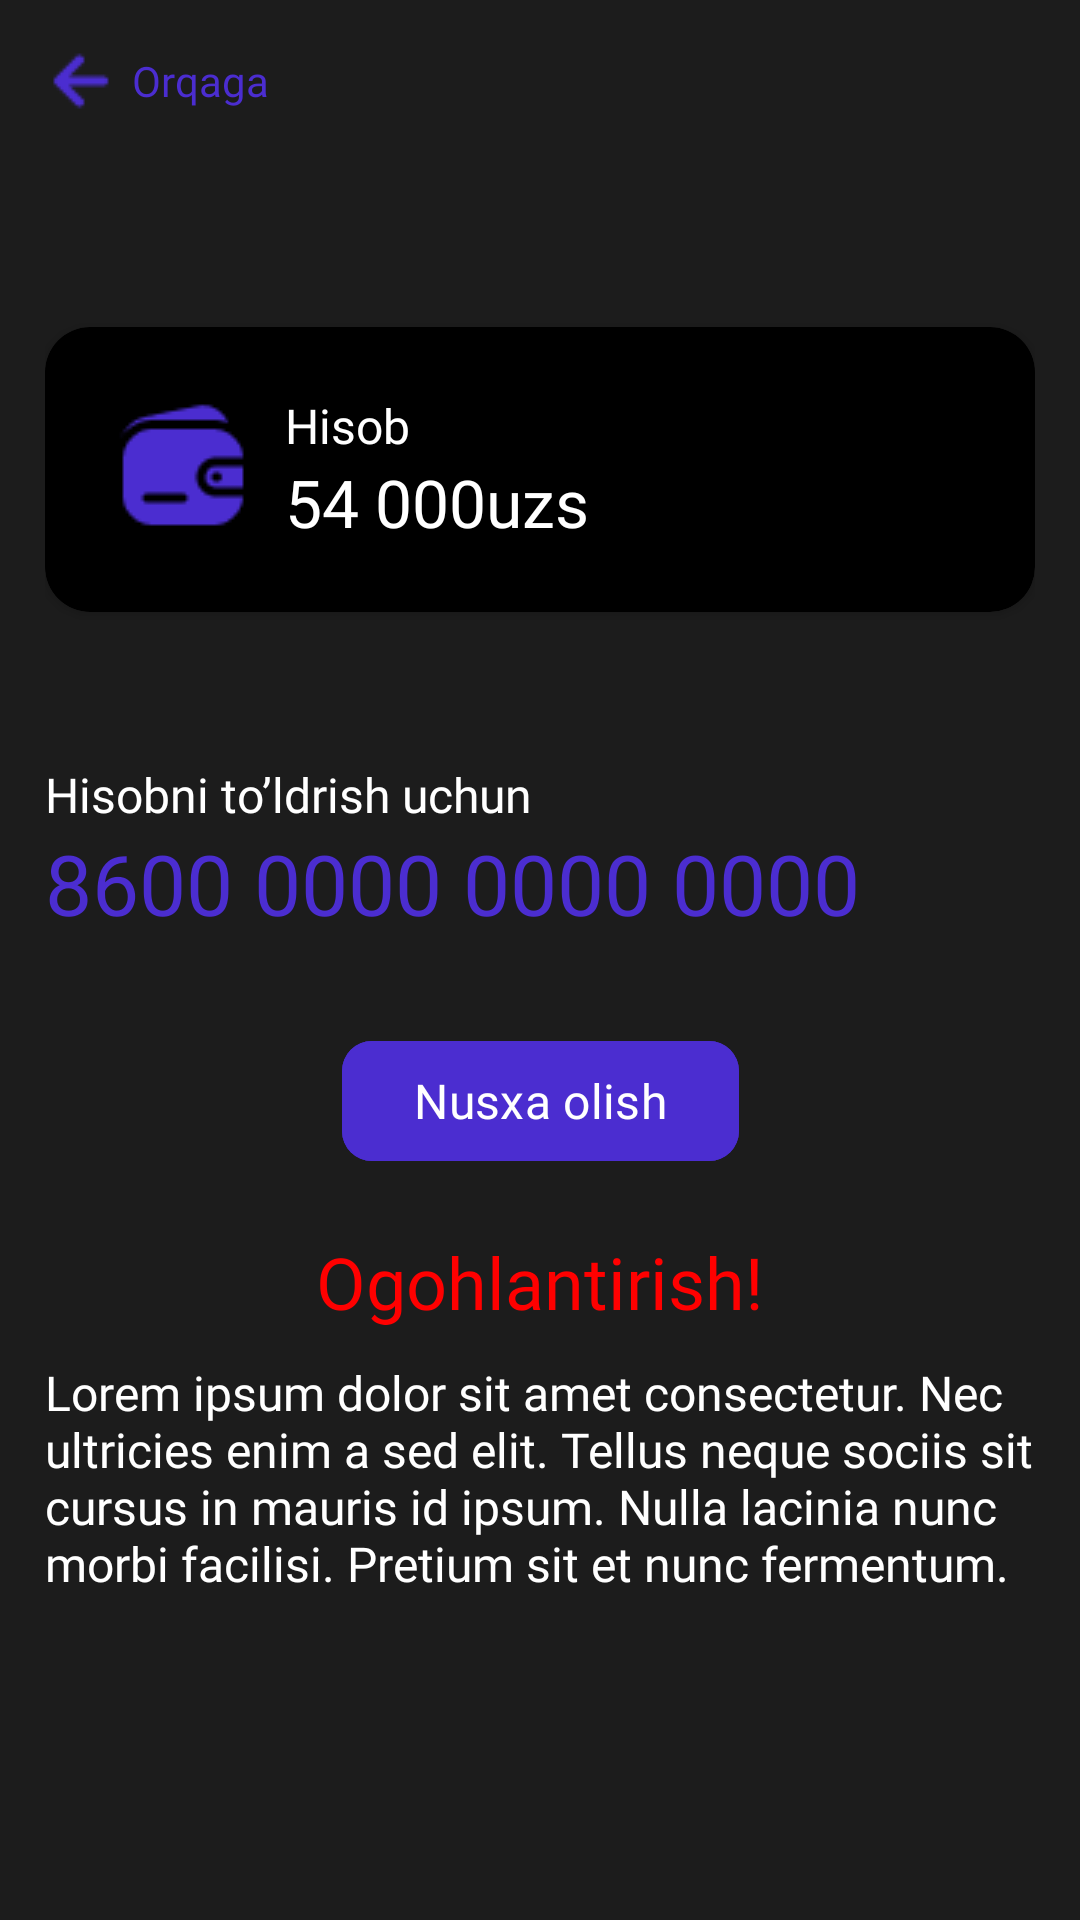

Screen size 1080 x 1920. Icon name, then its box in pixels as [x1, y1, x2, y2]:
arrow left: [53, 53, 109, 109]
